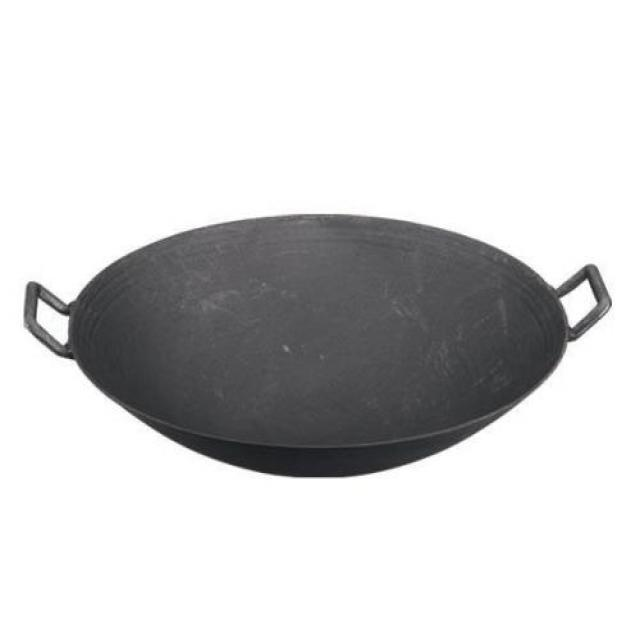recyclable: (20, 209, 612, 476)
